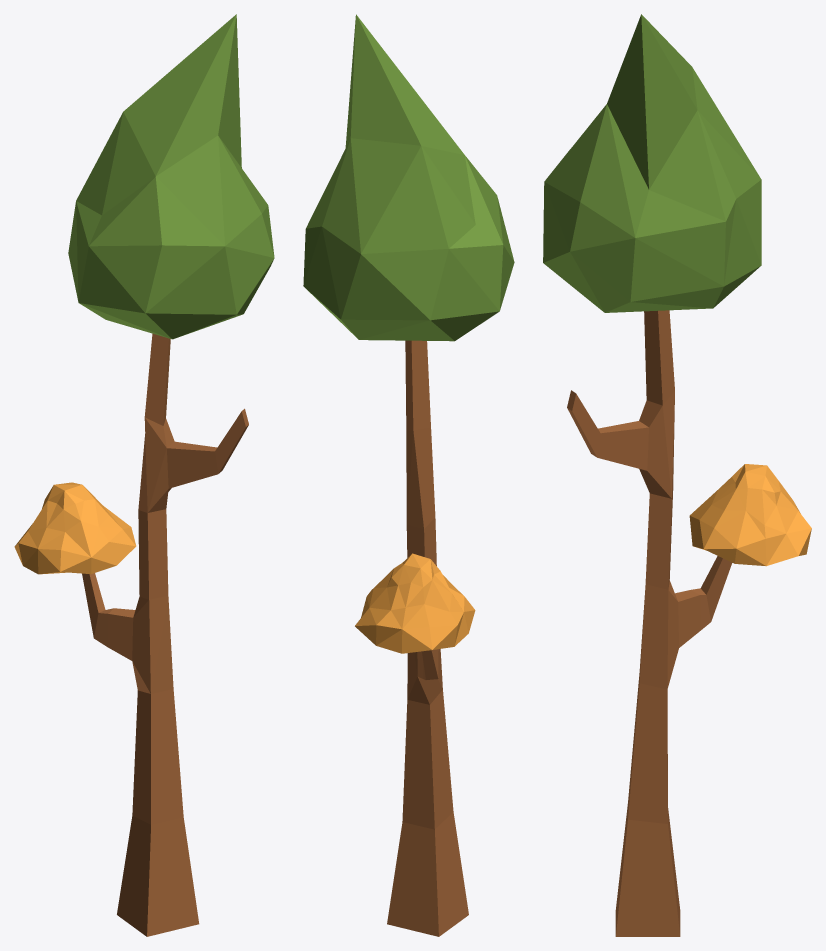
File: Tree_8.fbx
3 views of the same model, side by side, from view 1: azimuth 30°, elevation 25°; view 2: azimuth 150°, elevation 25°; view 3: azimuth 270°, elevation 25° (orthographic). The views are drawn at different scales.
Visible parts, largest first — view 1: M_Tree 8; view 2: M_Tree 8; view 3: M_Tree 8.
Boxes of the visible parts, left/top/right/bottom form: M_Tree 8: left=14, top=14, right=274, bottom=936; M_Tree 8: left=303, top=14, right=514, bottom=936; M_Tree 8: left=543, top=14, right=811, bottom=936.
Size of the model in its own units: 49.81 by 224 by 57.42.
1 material, 1 textured.
